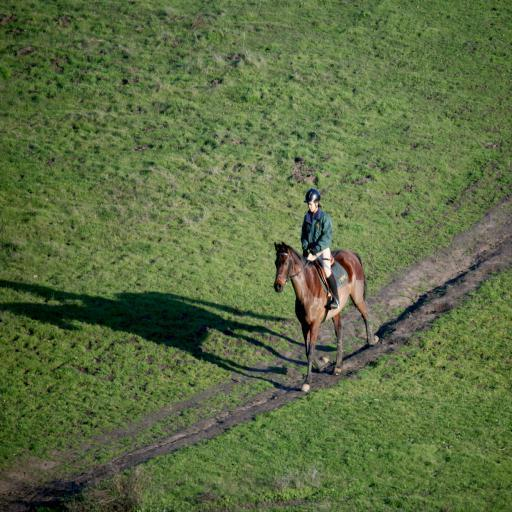horse: (272, 242, 380, 393)
